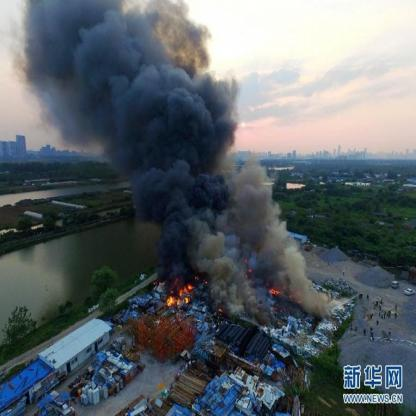fire: (163, 267, 205, 309), (265, 279, 304, 305)
smoke: (26, 2, 285, 259)
